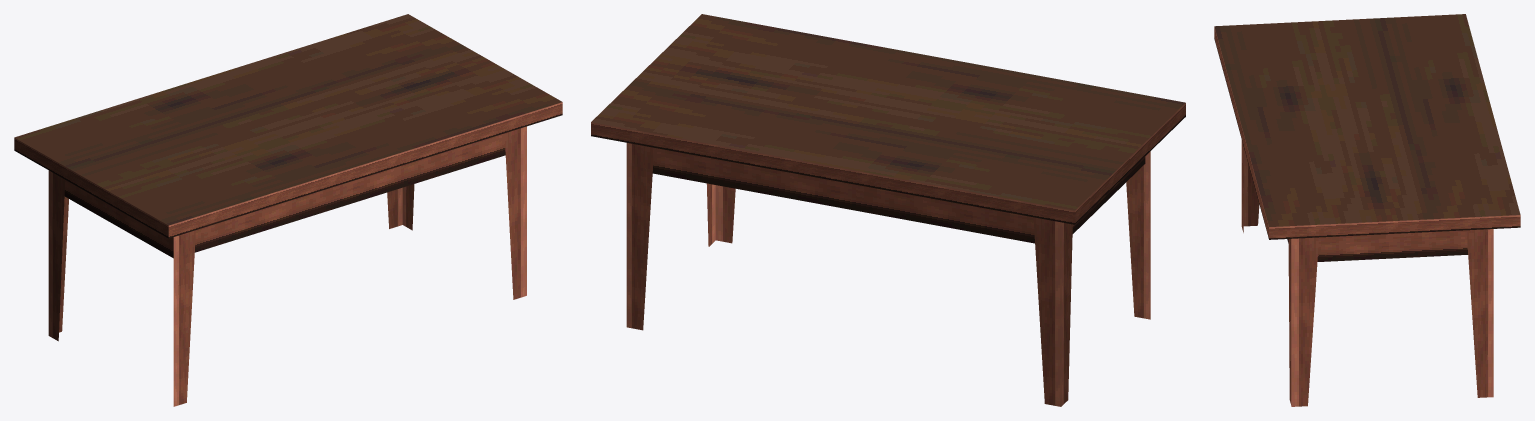
The model's file is primary_024.glb.
3 views of the same model, side by side, from view 1: azimuth 30°, elevation 25°; view 2: azimuth 150°, elevation 25°; view 3: azimuth 270°, elevation 25° (orthographic). The views are drawn at different scales.
Parts seen in each view (by area): view 1: Object; view 2: Object; view 3: Object.
Part boxes in pixels (x1=…): Object: x1=14, y1=14, x2=562, y2=406; Object: x1=591, y1=14, x2=1185, y2=406; Object: x1=1214, y1=14, x2=1520, y2=406.
Size of the model in its own units: 2.15 by 0.9004 by 1.31.
Materials: 4 (4 with a texture image).
